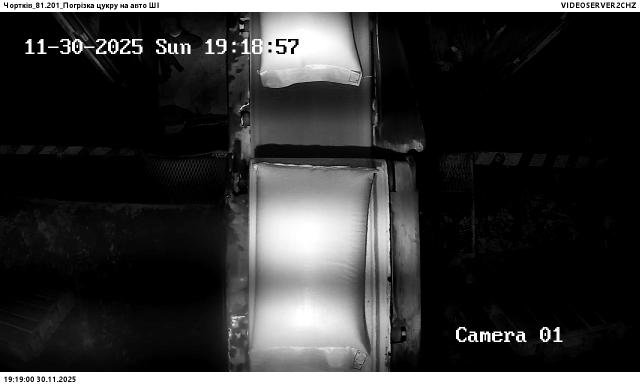bag: (254, 163, 376, 370), (260, 13, 362, 88)
